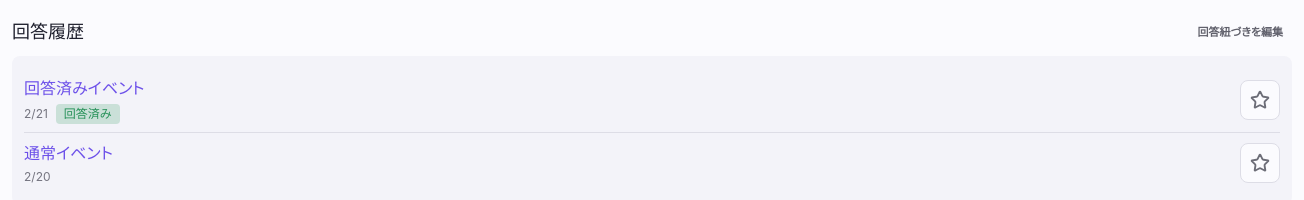
Test: EventHistory › 編集モードで回答紐づき解除ボタンを表示できる
Expected: the heading "回答履歴" is shown, [12,18,84,46]
Click the button with test id "event-history-answer-edit-toggle". click: (1240, 32)
box: [1189,16,1292,48]
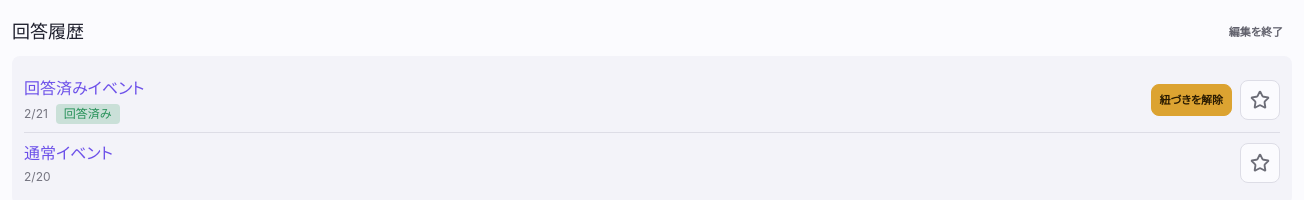
Now the button with test id "event-history-unlink-event-1" is shown, box [1151,84,1232,116]
